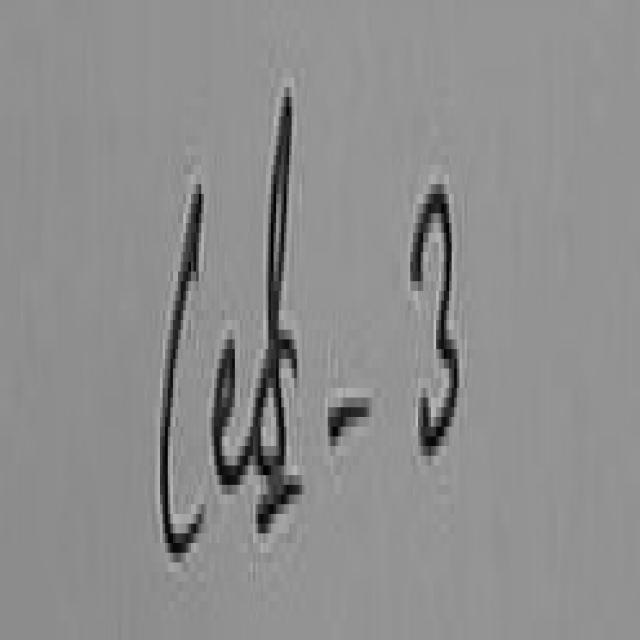3: (413, 184, 459, 456)
C: (160, 184, 204, 562)
e: (214, 339, 253, 485)
f: (255, 87, 299, 545)
